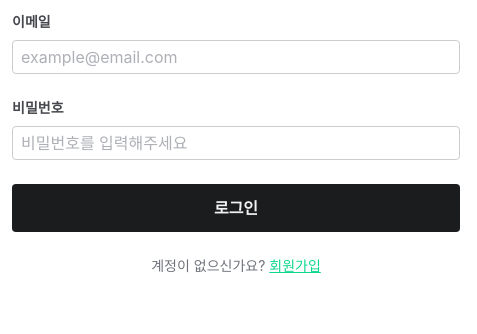
Test: SigninForm - Business Logic › Error Handling › shows server error message from API response
This screenshot has width=477, height=334.
In the field labelled "이메일": (236, 57) [12, 40, 460, 74], type "test@test.com"
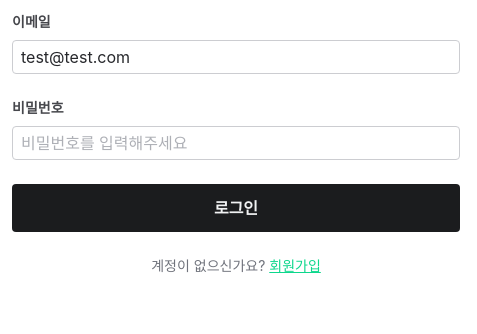
In the password field labelled "비밀번호": (236, 143) [12, 126, 460, 160], type "password123"
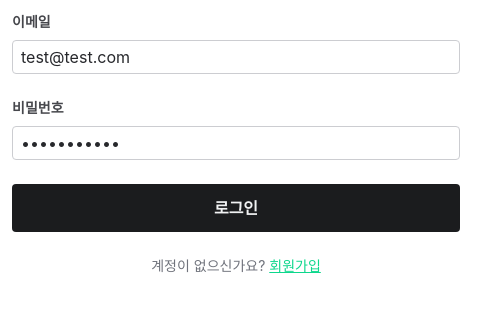
Click the button "로그인": (236, 208) [12, 184, 460, 232]
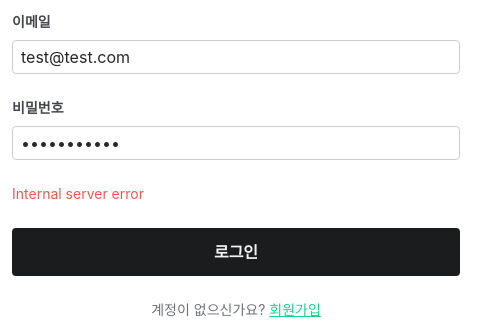
Now the text "Internal server error" is shown, box [12, 185, 144, 202]
